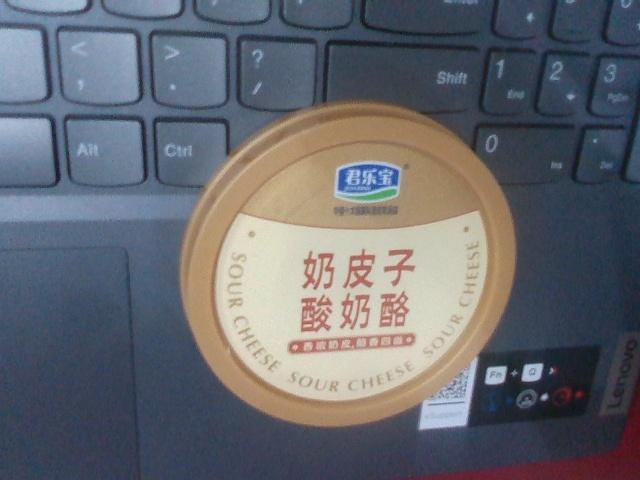keyboard: (2, 3, 637, 189)
lid: (182, 98, 519, 432)
